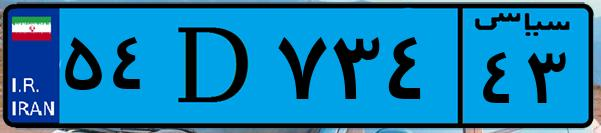3: (330, 28, 385, 110), (525, 38, 570, 115)
4: (385, 28, 445, 110), (475, 38, 525, 113), (110, 28, 158, 98)
5: (57, 26, 110, 100)
7: (270, 28, 330, 110)
D: (158, 12, 270, 120)
